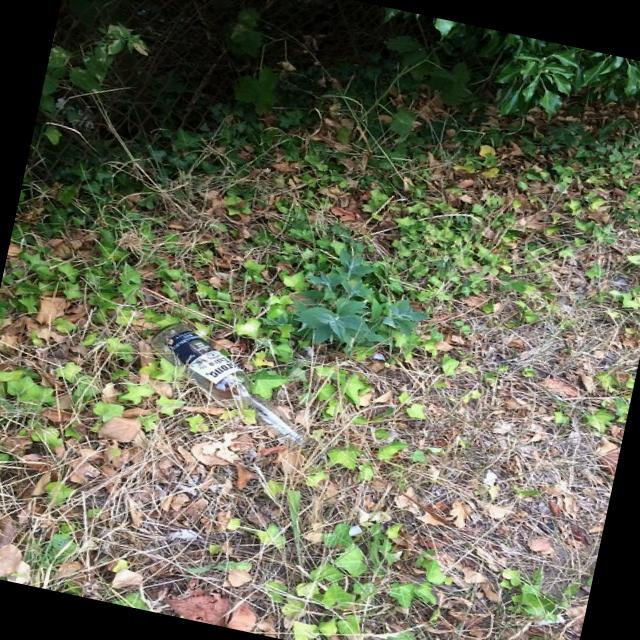Recycle: (134, 318, 325, 447)
